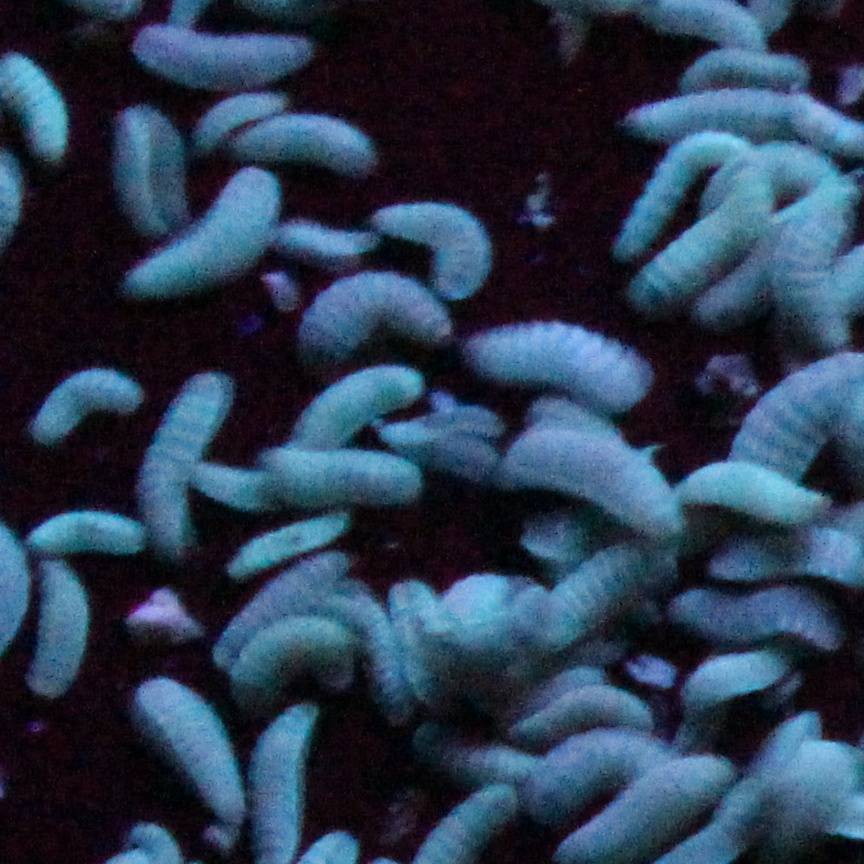larve: (123, 168, 284, 299), (504, 430, 685, 536), (632, 168, 772, 300), (137, 366, 229, 562), (134, 678, 249, 826), (606, 128, 737, 257), (468, 323, 660, 404), (537, 538, 675, 650), (296, 273, 451, 366), (673, 581, 844, 649), (289, 366, 430, 445), (137, 23, 316, 85), (377, 200, 491, 293), (672, 459, 829, 526), (235, 616, 354, 700), (116, 104, 189, 238), (1, 48, 79, 164), (258, 454, 422, 507), (30, 368, 142, 445), (510, 685, 658, 743), (618, 93, 794, 140), (225, 516, 353, 578), (234, 118, 377, 171), (685, 643, 794, 712), (34, 559, 87, 699), (192, 90, 284, 155), (27, 511, 142, 559), (672, 50, 808, 90)
